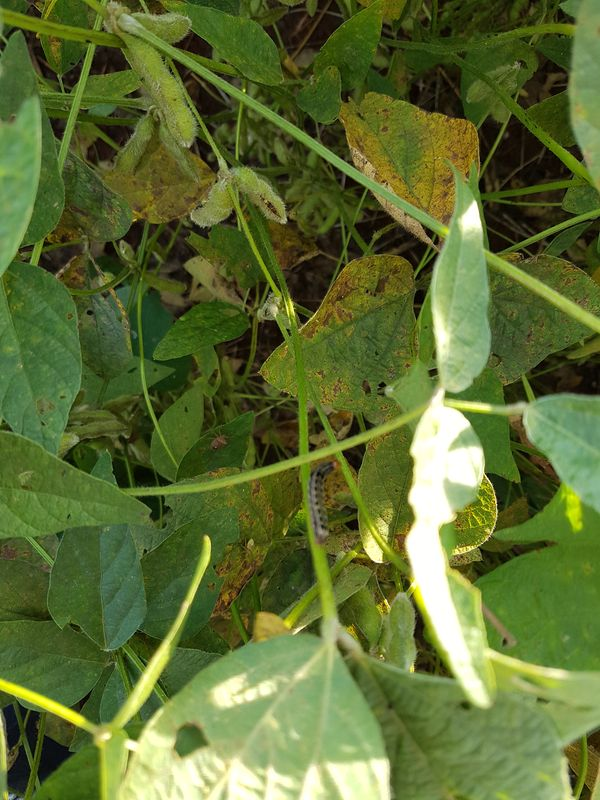Euschistus_heros_adulto: (201, 424, 237, 459)
Spodoptera_albula: (285, 448, 365, 552)
